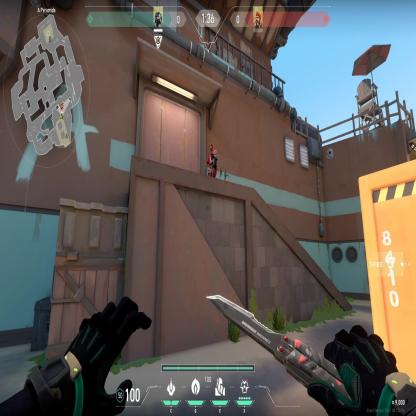enemy: (206, 142, 218, 180)
